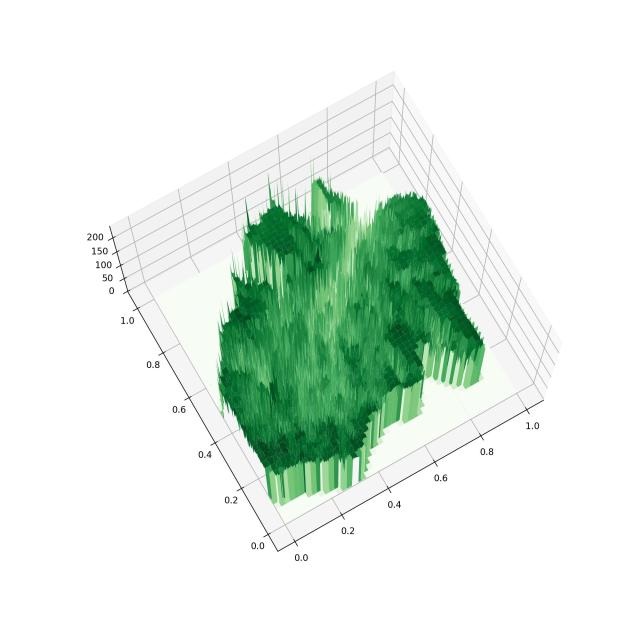trembling aspen: (52, 45, 577, 576)
